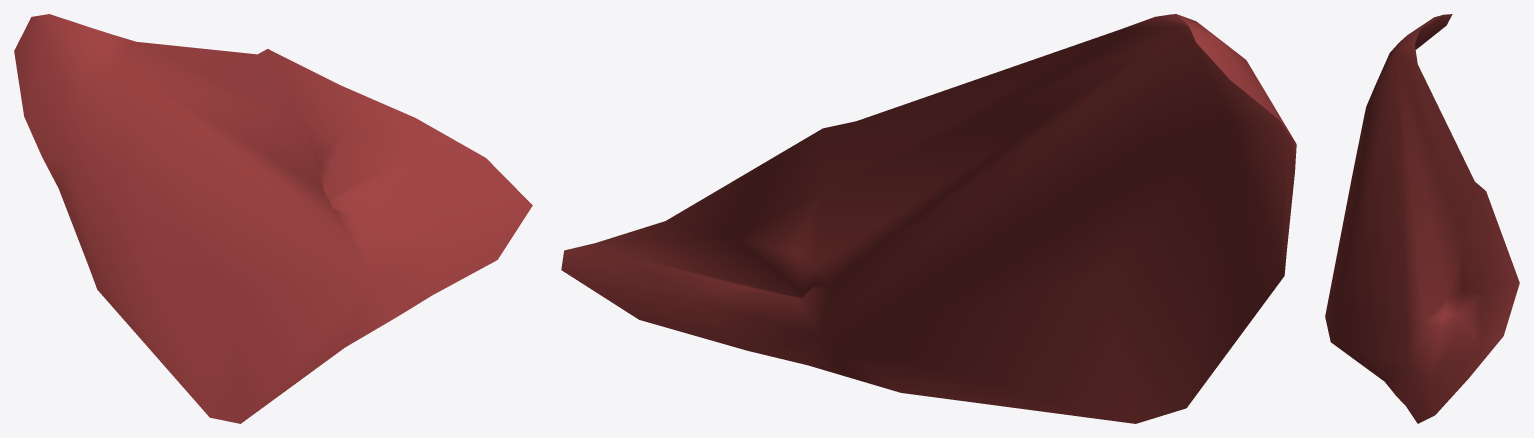
Rendered from deep-head-of-flexor-pollicis-brevis-ol.glb.
3 renders of one model, left to right at view 1: azimuth 30°, elevation 25°; view 2: azimuth 150°, elevation 25°; view 3: azimuth 270°, elevation 25°, orthographic. The views are drawn at different scales.
Visible parts, largest first — view 1: Deep head of flexor pollicis brevis.ol; view 2: Deep head of flexor pollicis brevis.ol; view 3: Deep head of flexor pollicis brevis.ol.
Boxes of the visible parts, x1,y1,x2,y2 form: Deep head of flexor pollicis brevis.ol: (14, 14, 532, 423); Deep head of flexor pollicis brevis.ol: (561, 14, 1296, 423); Deep head of flexor pollicis brevis.ol: (1325, 14, 1519, 423).
Bounding box in the file's own units: 0.0115 × 0.00802 × 0.00496.
